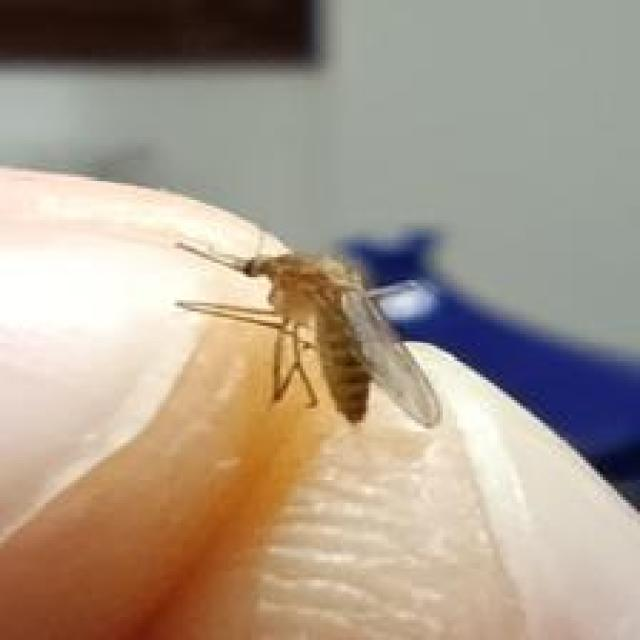Culex: (171, 233, 443, 430)
